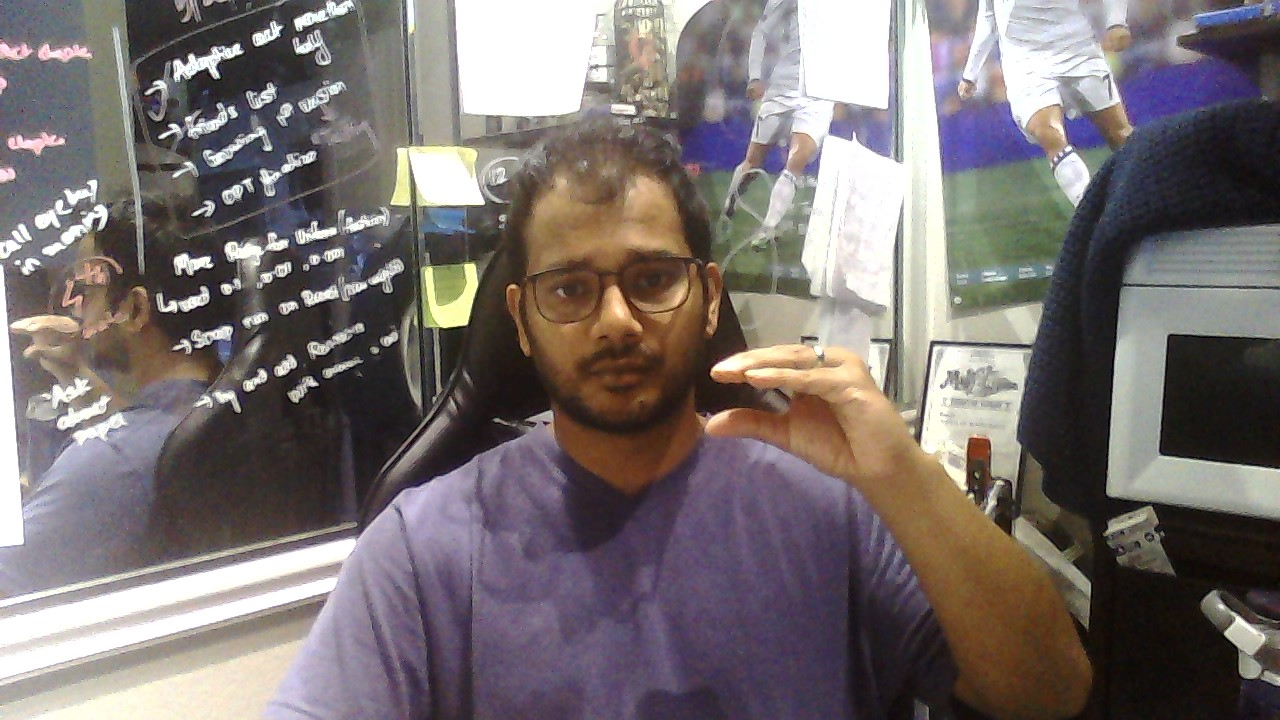No: (704, 343, 902, 479)
